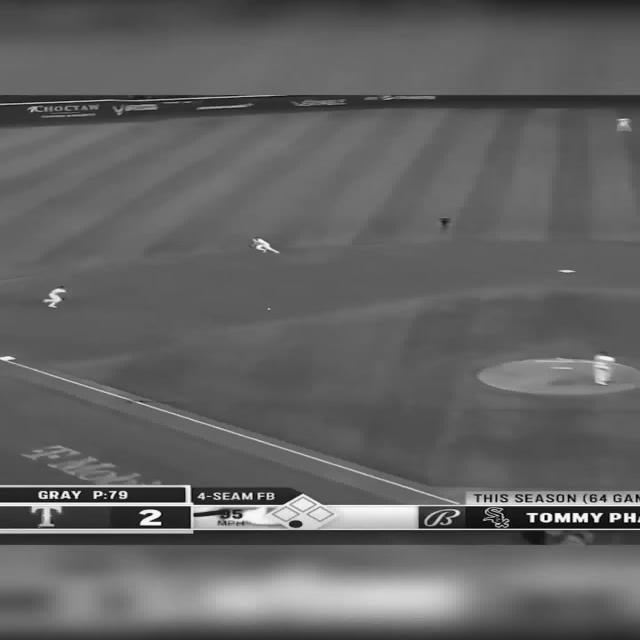base: (558, 269, 576, 274), (1, 356, 16, 361)
baseball: (267, 308, 271, 310)
